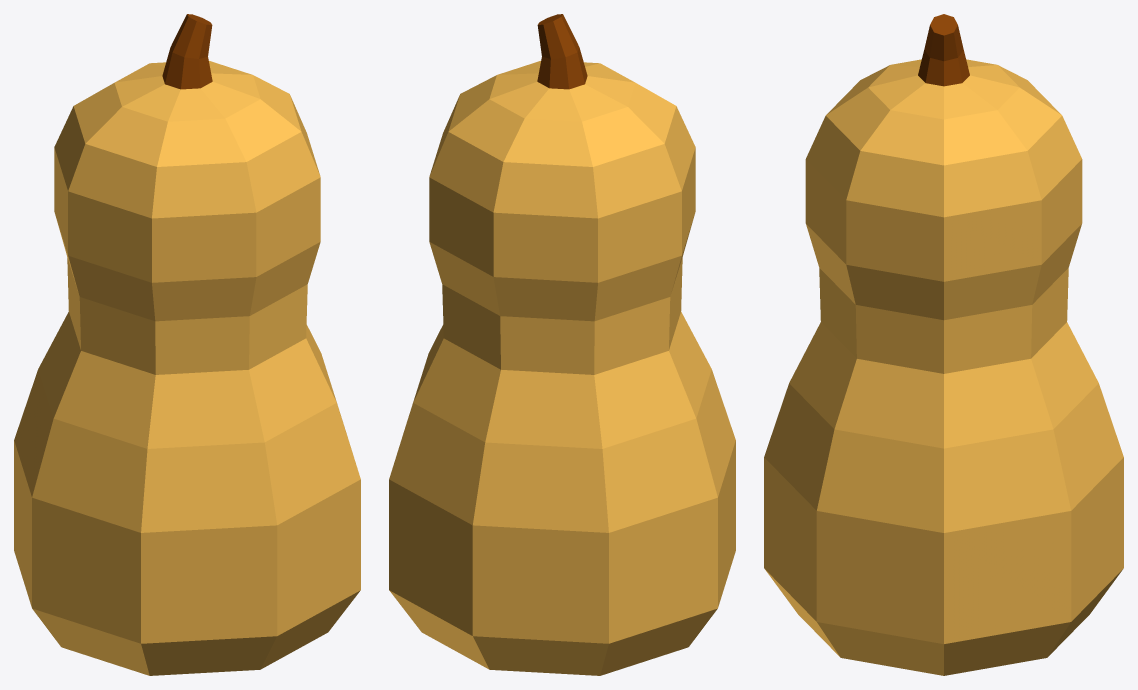
File: buttersquash01.gltf
3 renders of one model, left to right at view 1: azimuth 30°, elevation 25°; view 2: azimuth 150°, elevation 25°; view 3: azimuth 270°, elevation 25°, orthographic.
Visible parts, largest first — view 1: Cylinder.001; view 2: Cylinder.001; view 3: Cylinder.001.
Boxes of the visible parts, <box> form: Cylinder.001: <box>14,14,360,675</box>; Cylinder.001: <box>389,14,735,675</box>; Cylinder.001: <box>764,14,1123,675</box>.
Bounding box in the file's own units: 0.1035 × 0.2003 × 0.1035.
1 material, 1 textured.
